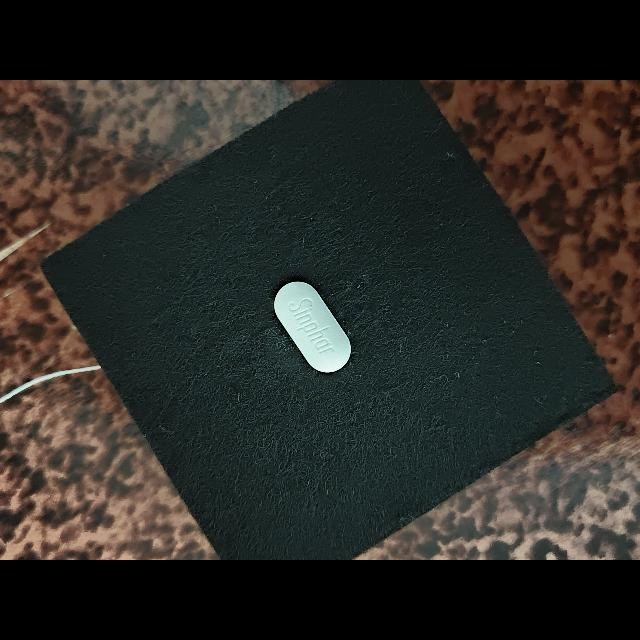Intact Pill: (274, 282, 351, 372)
